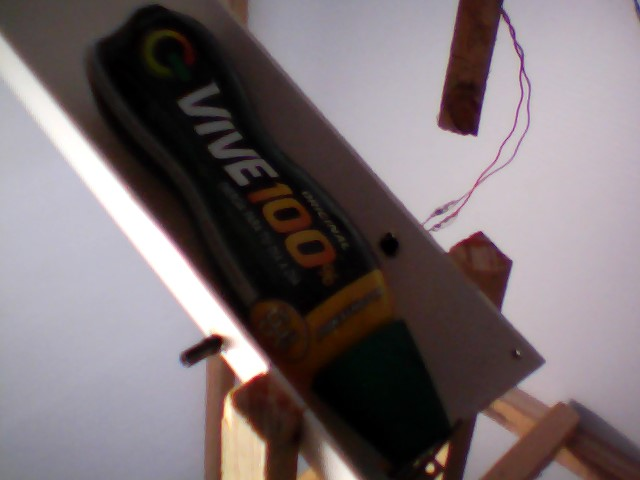plastico: (78, 5, 464, 470)
